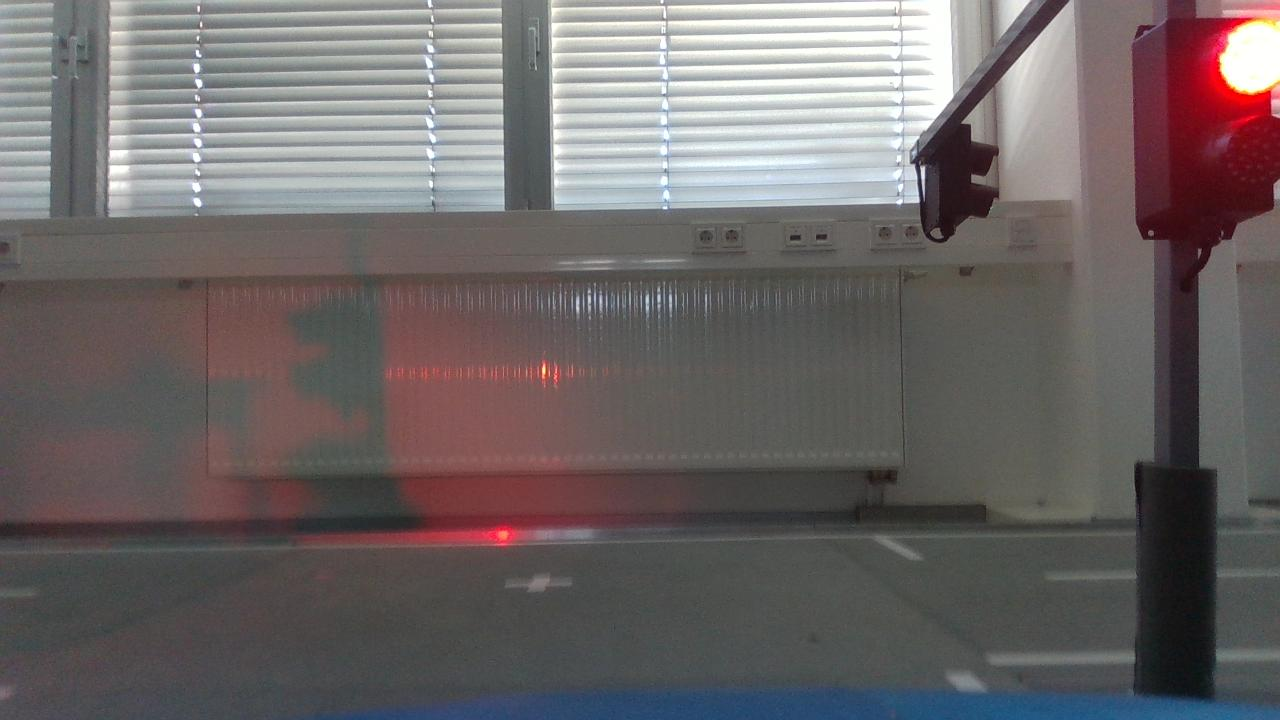traffic_light_red: (1115, 5, 1280, 250)
